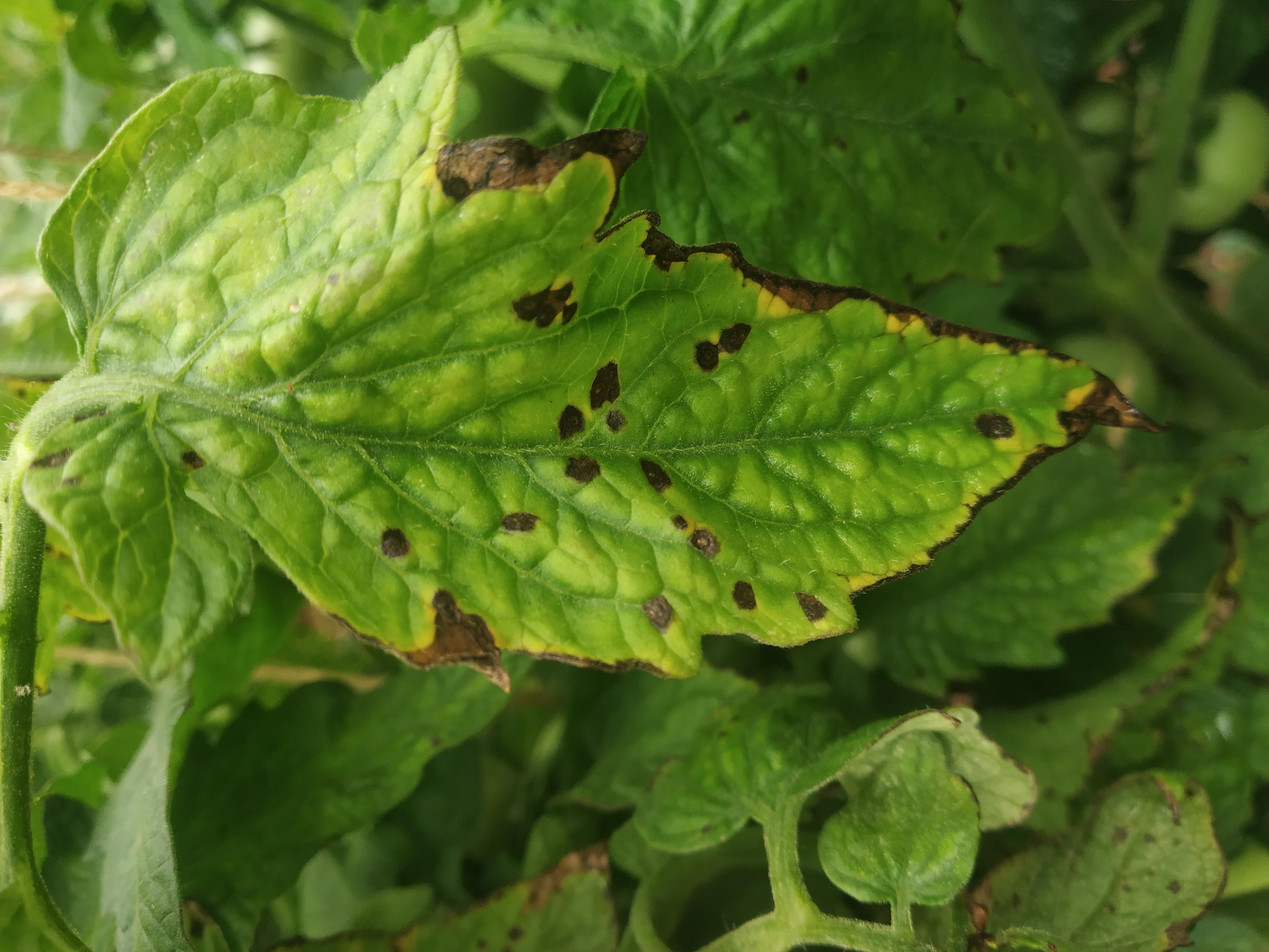Early Blight: (332, 10, 1239, 886)
